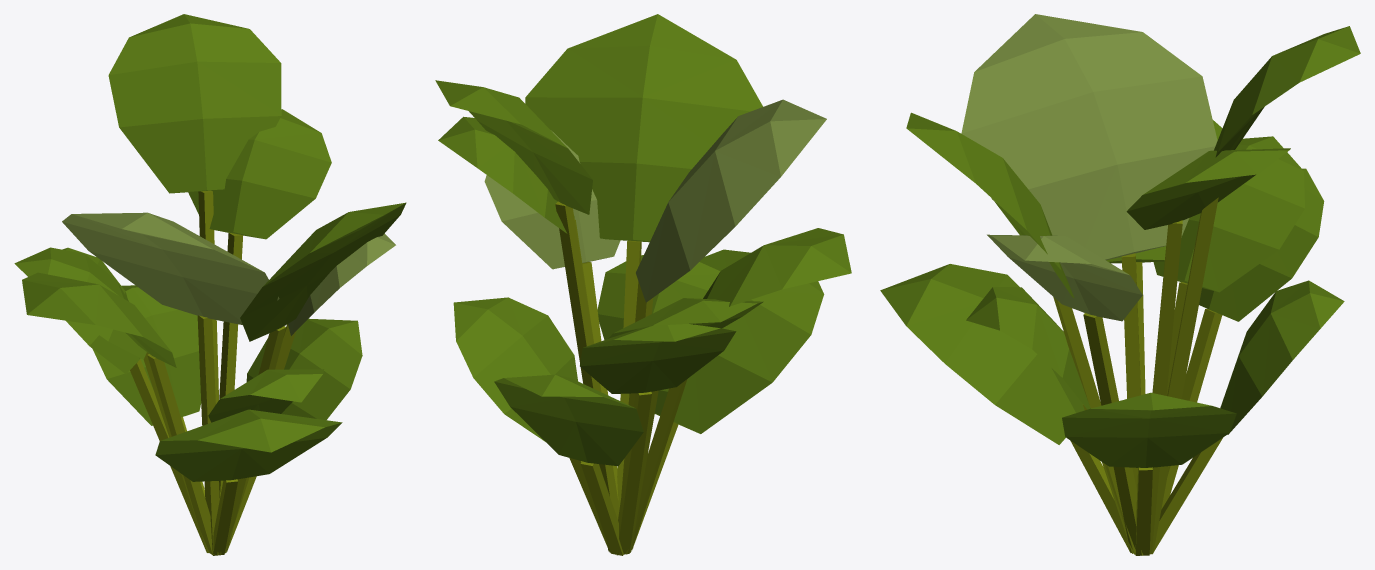
Rendered from SM_Clutter_PlantTaro_01.fbx.
3 renders of one model, left to right at view 1: azimuth 30°, elevation 25°; view 2: azimuth 150°, elevation 25°; view 3: azimuth 270°, elevation 25°, orthographic. The views are drawn at different scales.
Visible parts, largest first — view 1: SM_Clutter_PlantTaro_01; view 2: SM_Clutter_PlantTaro_01; view 3: SM_Clutter_PlantTaro_01.
Part boxes in pixels (box(x1,y1,x2,y2)): SM_Clutter_PlantTaro_01: box(14, 14, 406, 555); SM_Clutter_PlantTaro_01: box(435, 14, 851, 555); SM_Clutter_PlantTaro_01: box(880, 14, 1360, 555).
Size of the model in its own units: 0.603 by 0.7709 by 0.6212.
1 material, 1 textured.
